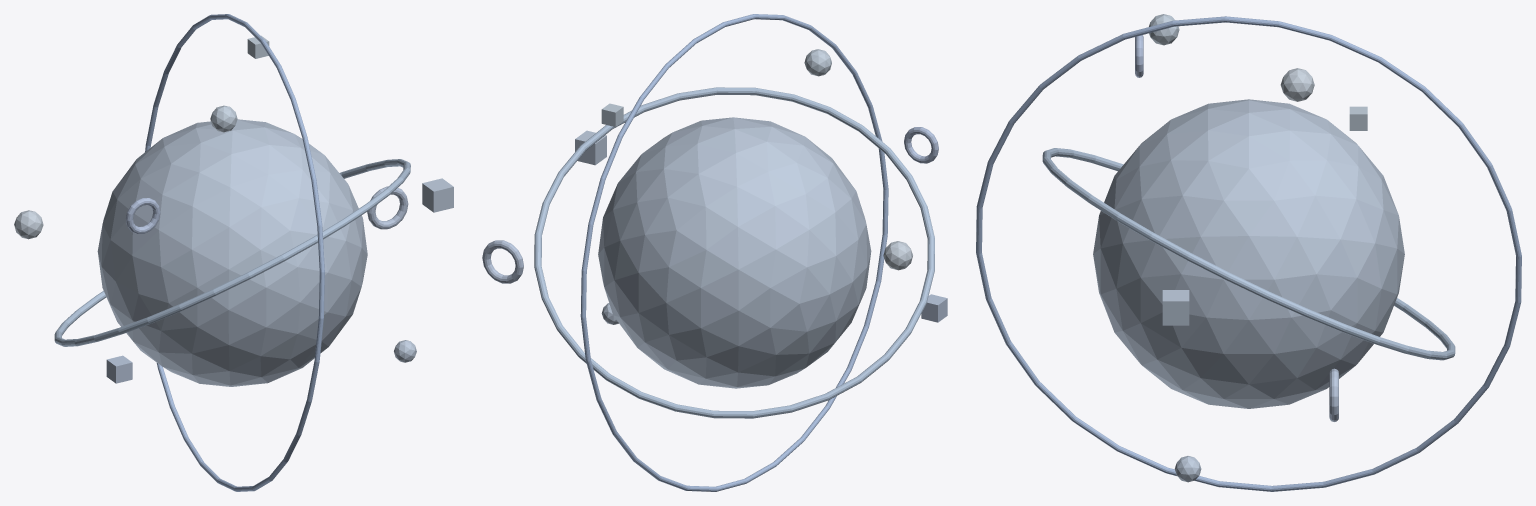
File: moon.glb
3 views of the same model, side by side, from view 1: azimuth 30°, elevation 25°; view 2: azimuth 150°, elevation 25°; view 3: azimuth 270°, elevation 25° (orthographic). The views are drawn at different scales.
Visible parts, largest first — view 1: world; view 2: world; view 3: world.
Boxes of the visible parts, x1=… form: world: x1=14, y1=14, x2=453, y2=491; world: x1=482, y1=14, x2=947, y2=491; world: x1=976, y1=14, x2=1521, y2=491.
Size of the model in its own units: 4.46 by 4.51 by 4.48.
